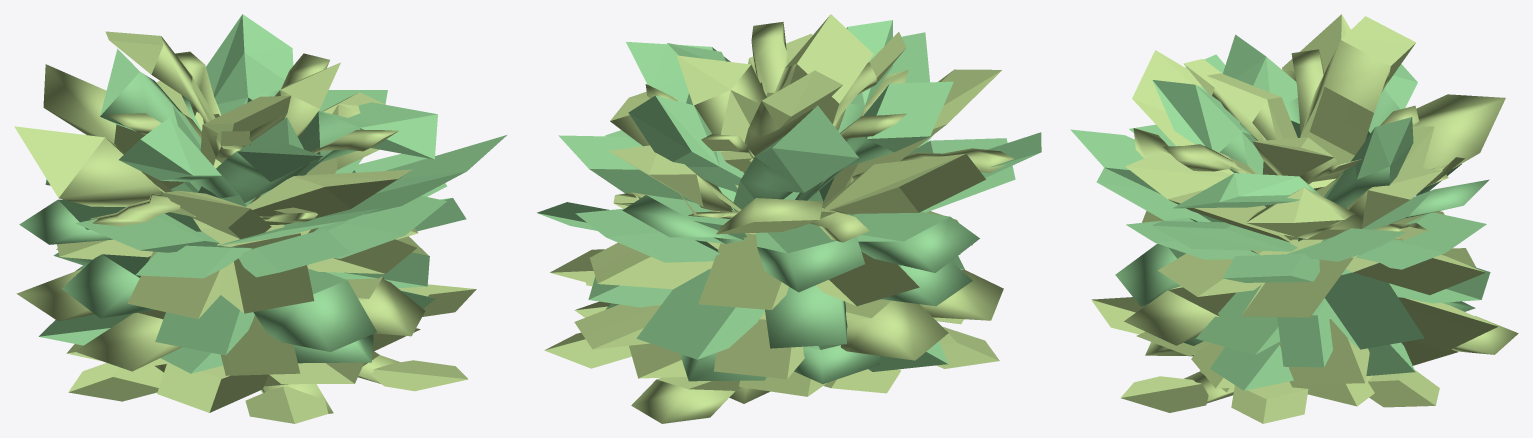
File: Bush.fbx
3 renders of one model, left to right at view 1: azimuth 30°, elevation 25°; view 2: azimuth 150°, elevation 25°; view 3: azimuth 270°, elevation 25°, orthographic. The views are drawn at different scales.
Parts seen in each view (by area): view 1: model.003; view 2: model.003; view 3: model.003.
Part boxes in pixels (x1,y1,x2,y2): model.003: [14, 14, 506, 423]; model.003: [537, 14, 1041, 423]; model.003: [1070, 14, 1518, 423].
Bounding box in the file's own units: 94.98 × 65.39 × 90.88.
